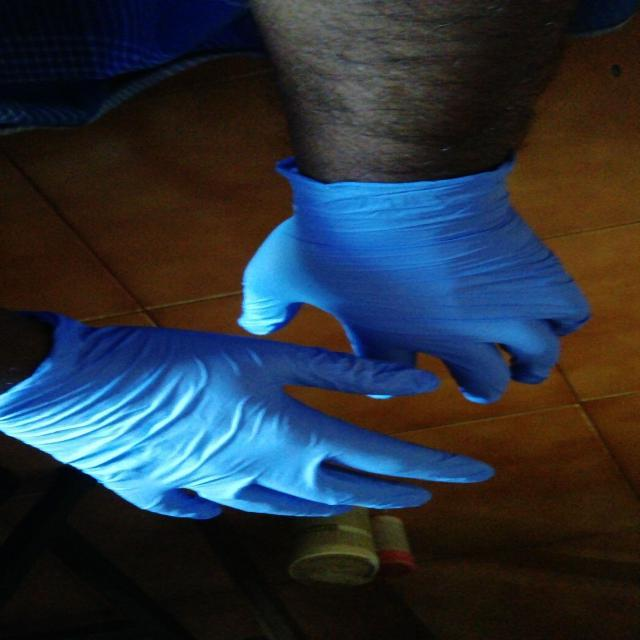gloved_hand: (4, 304, 502, 526), (231, 136, 603, 406)
